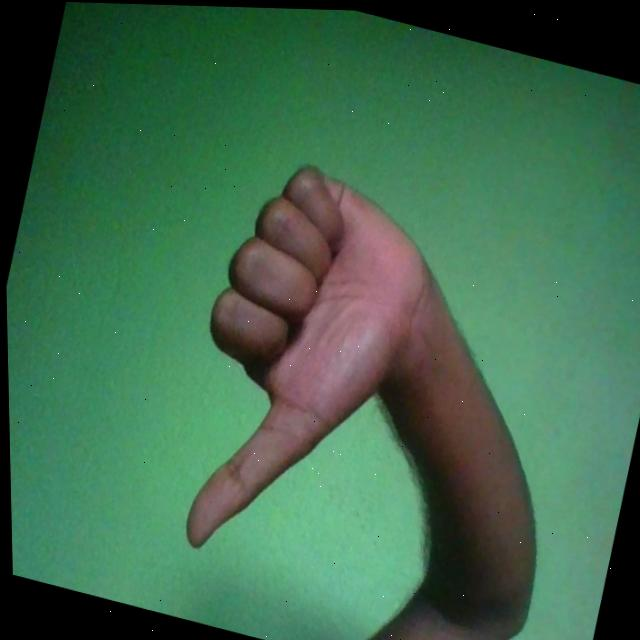Dislike: (154, 143, 453, 593)
